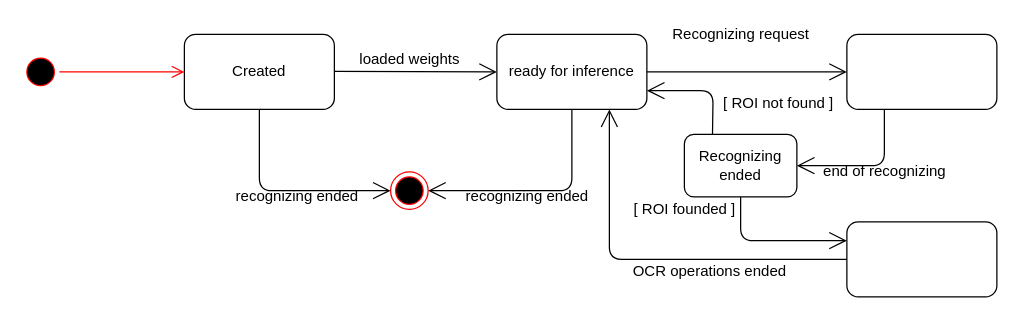
Some shapes in this 1019 by 319 pixel diagram are drawn without their labels. Here are the shapes that lost their labels. From the top down, the centre of each, then its label:
At [921,71]: "Recognizing".
At [921,259]: "OCR operations".
